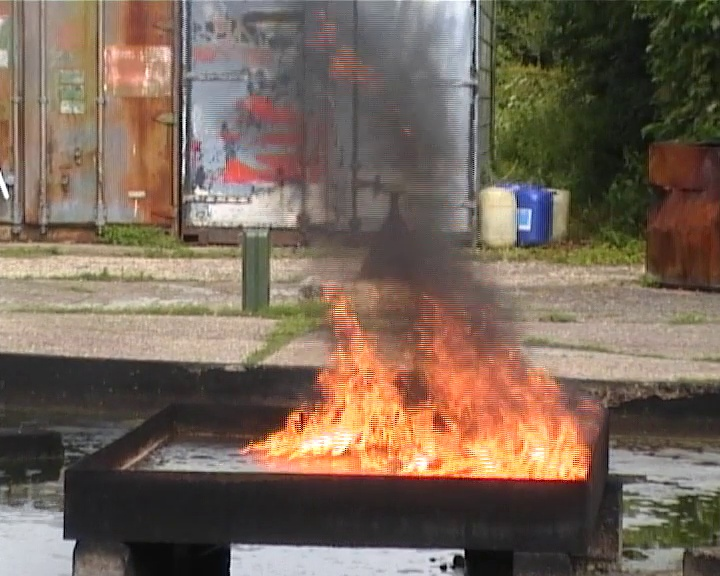fire: (247, 293, 586, 481)
